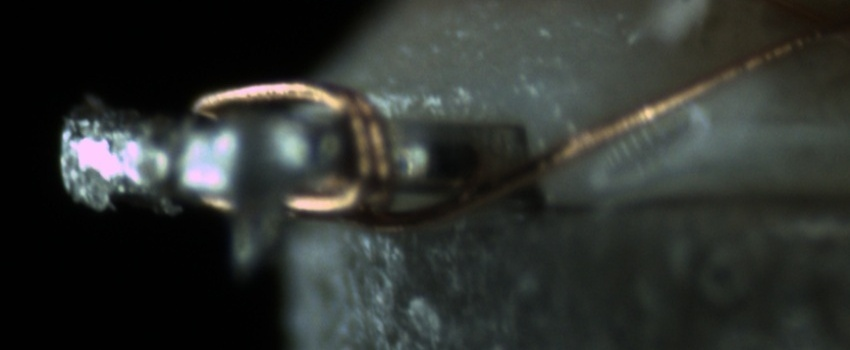TE: (197, 68, 398, 217)
